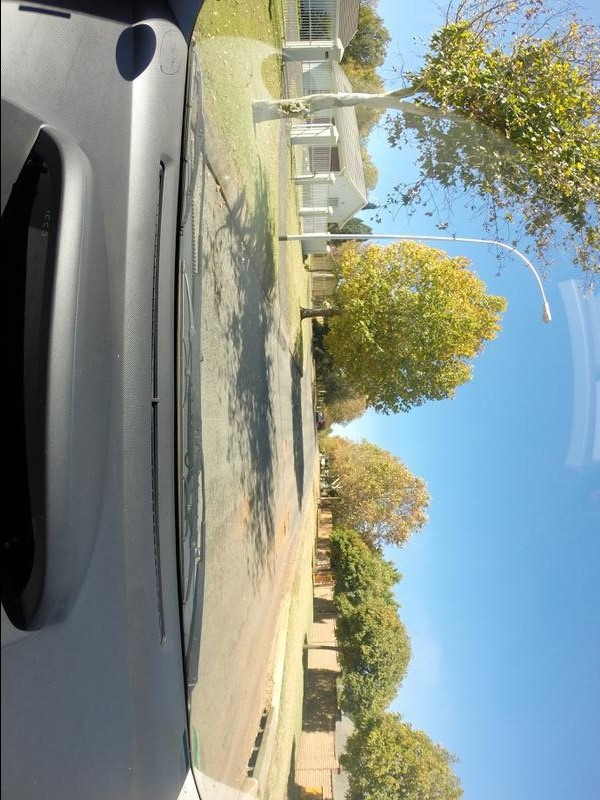pothole: (281, 521, 289, 538)
